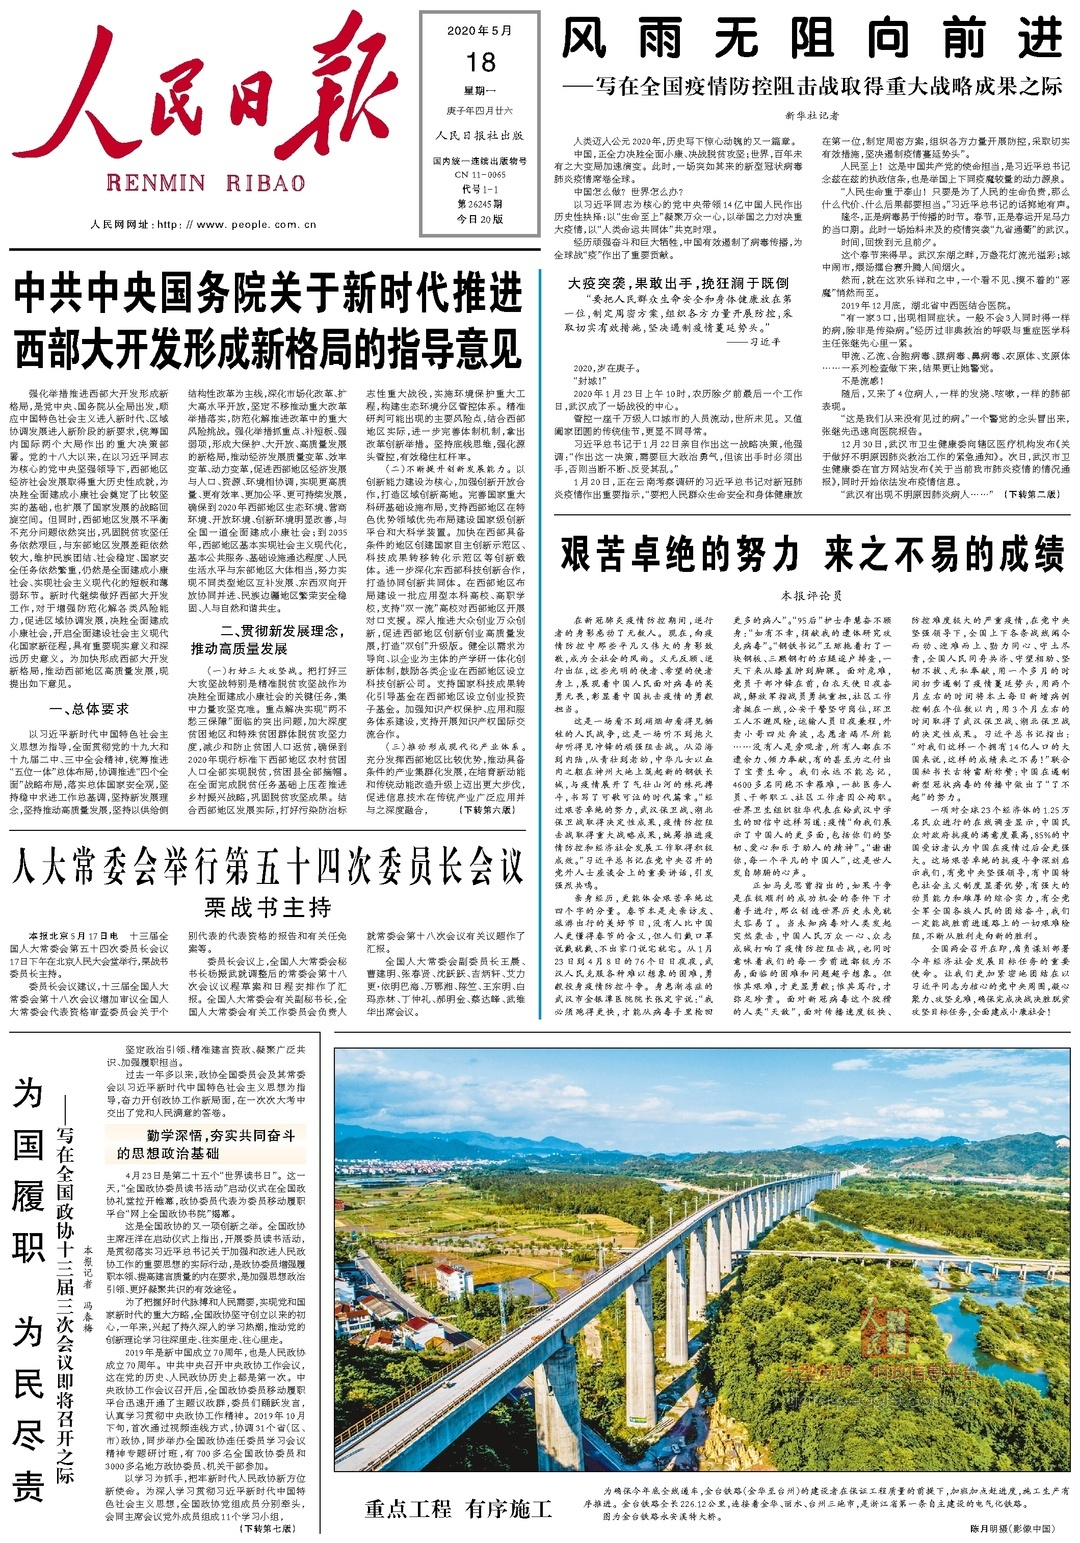pic: (330, 1041, 1076, 1479)
